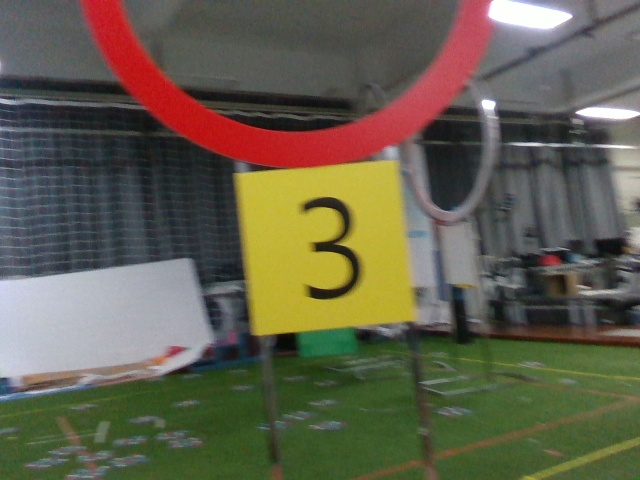target: (239, 166, 401, 330)
